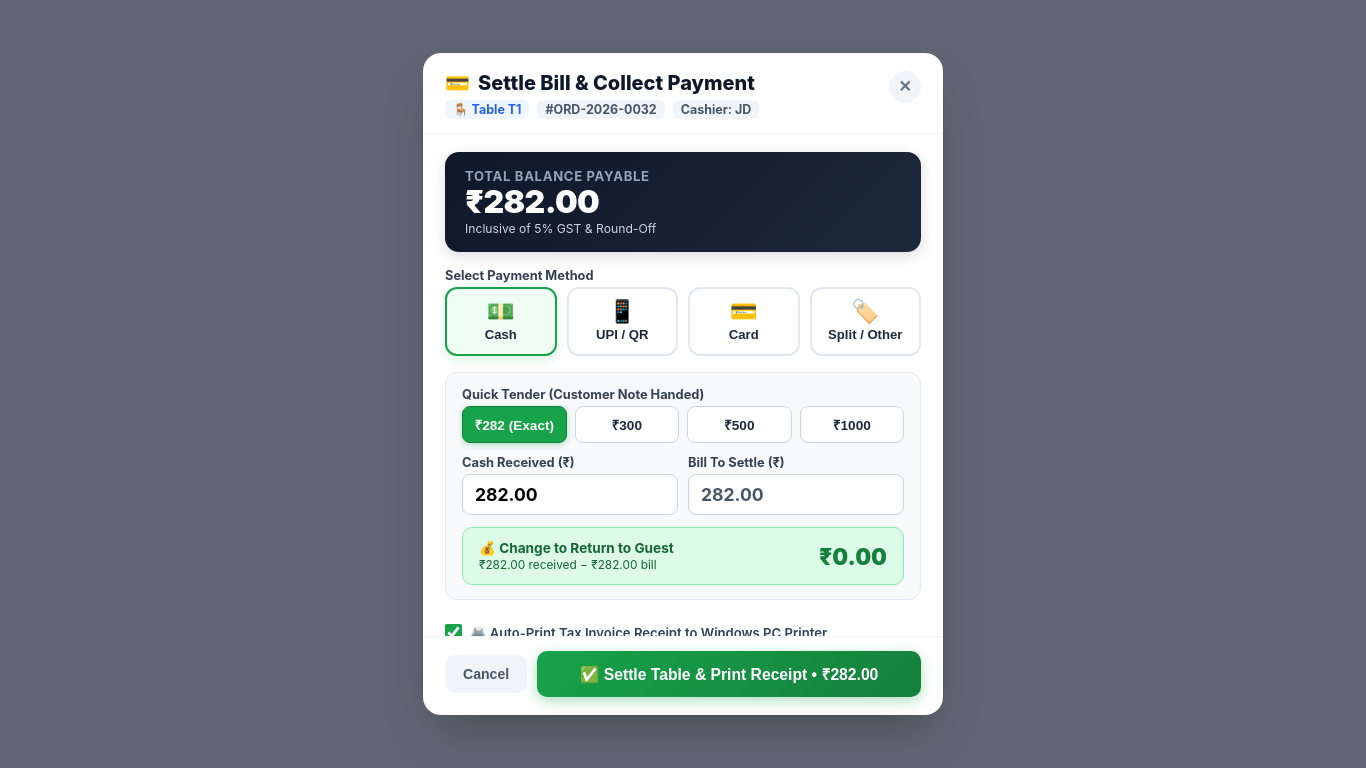
Test: PaymentCollectModal Component › calculates change to return when cash tender is selected and submits payment
Later steps or results of the test are not shown.
Note: Click quick cash tender pill for ₹500
Click the button "₹500". click: (739, 425)
box: x1=687 y1=406 x2=792 y2=443
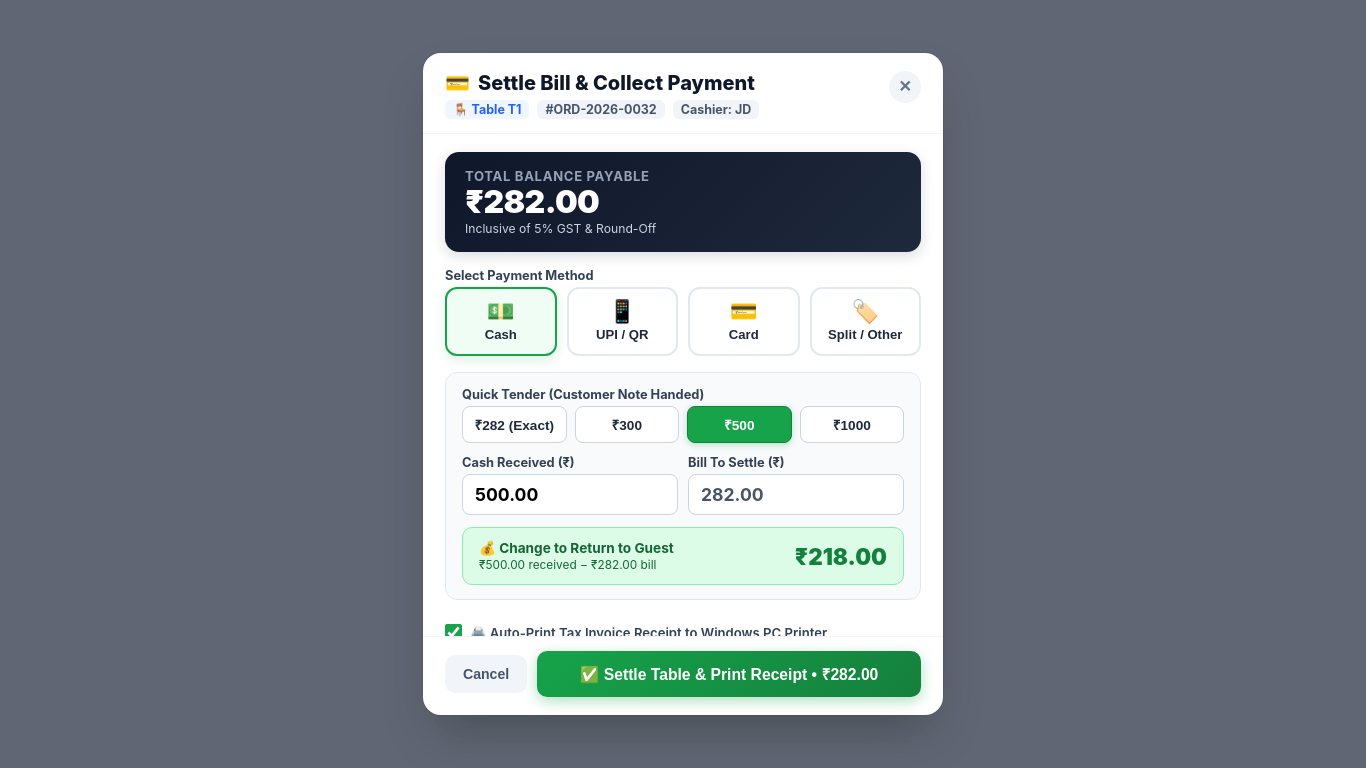
Expected: the text "💰 Change to Return to Guest" is shown, x1=479 y1=540 x2=674 y2=556
Result: the text "₹218.00" is shown at x1=795 y1=543 x2=887 y2=570
